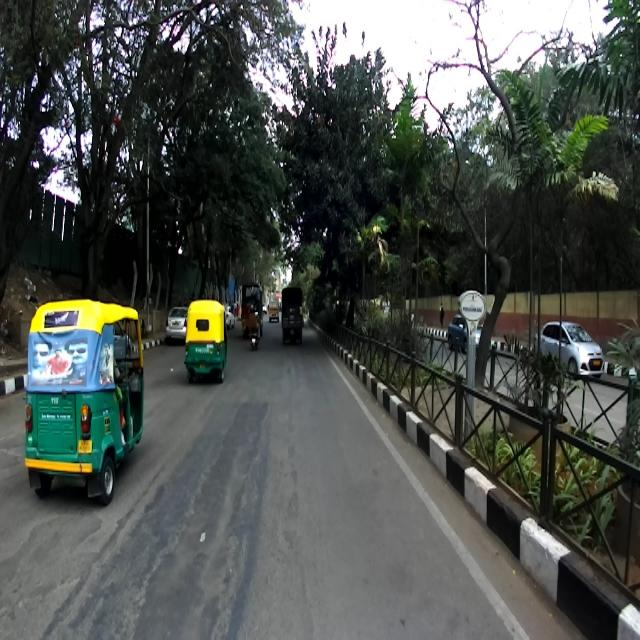Car_Hyundai: (533, 320, 604, 377)
autorickshaw: (23, 300, 145, 506), (184, 295, 226, 386)
